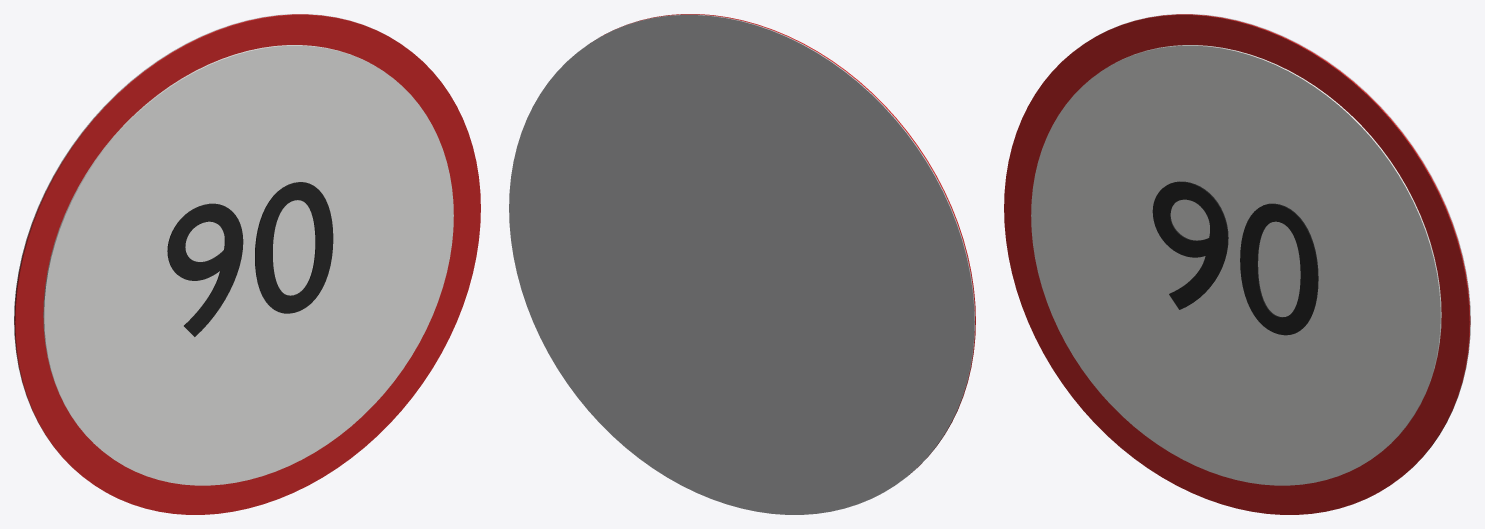
3 renders of one model, left to right at view 1: azimuth 30°, elevation 25°; view 2: azimuth 150°, elevation 25°; view 3: azimuth 330°, elevation 25°, orthographic.
Visible parts, largest first — view 1: B14_90_fond, B14_90_bord, B14_90_picto0, B14_90_dos; view 2: B14_90_dos, B14_90_bord; view 3: B14_90_fond, B14_90_bord, B14_90_picto0, B14_90_dos.
Boxes of the visible parts, x1,y1,x2,y2 form: B14_90_fond: [43, 45, 453, 485]; B14_90_bord: [14, 14, 480, 514]; B14_90_picto0: [167, 182, 333, 336]; B14_90_dos: [14, 14, 385, 474]; B14_90_dos: [509, 14, 974, 514]; B14_90_bord: [601, 14, 975, 474]; B14_90_fond: [1031, 45, 1441, 485]; B14_90_bord: [1004, 14, 1470, 514]; B14_90_picto0: [1152, 181, 1318, 335]; B14_90_dos: [1099, 14, 1470, 474].
Bounding box in the file's own units: 0.65 × 0.65 × 0.0083.
